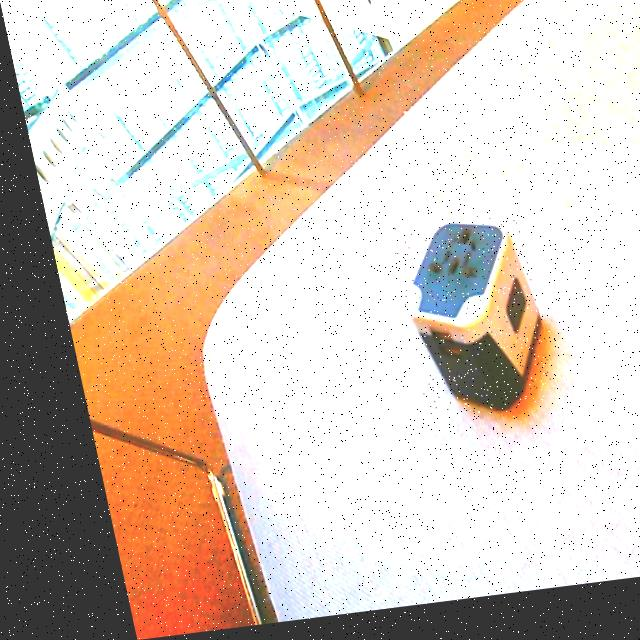adapter: (376, 222, 538, 428)
